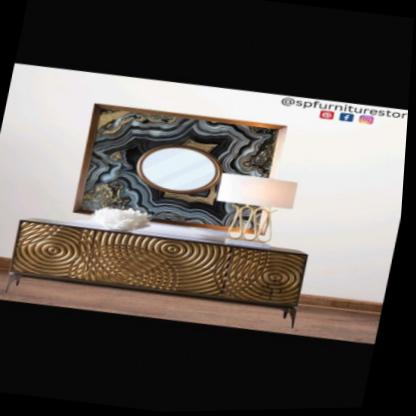Sideboard: (6, 220, 312, 322)
